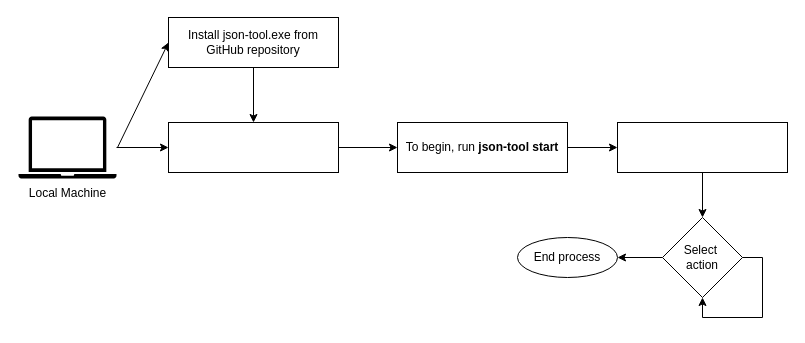
Image size: 805x343. Some labels were removed from this diagram. The shapes that lost their labels are listed below. From the top down, each one's box as (x1, y1, x2, y2) in pixels, then its label:
(168, 122, 338, 172): Open terminal and navigate to json-tool.exe directory
(616, 122, 788, 172): Provide directory path to your JSON file
